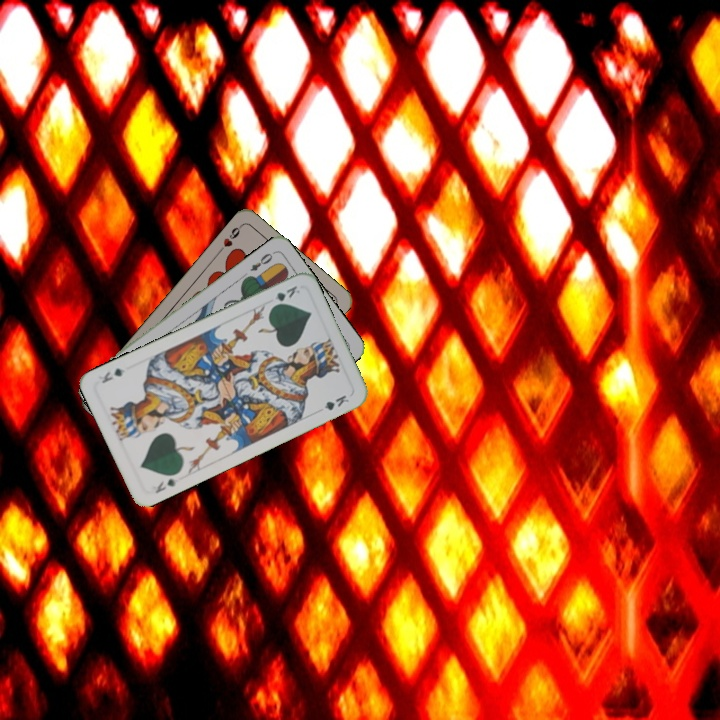EO: (246, 249, 275, 274)
GK: (267, 281, 303, 310), (151, 474, 179, 496)
H9: (214, 221, 245, 255)
